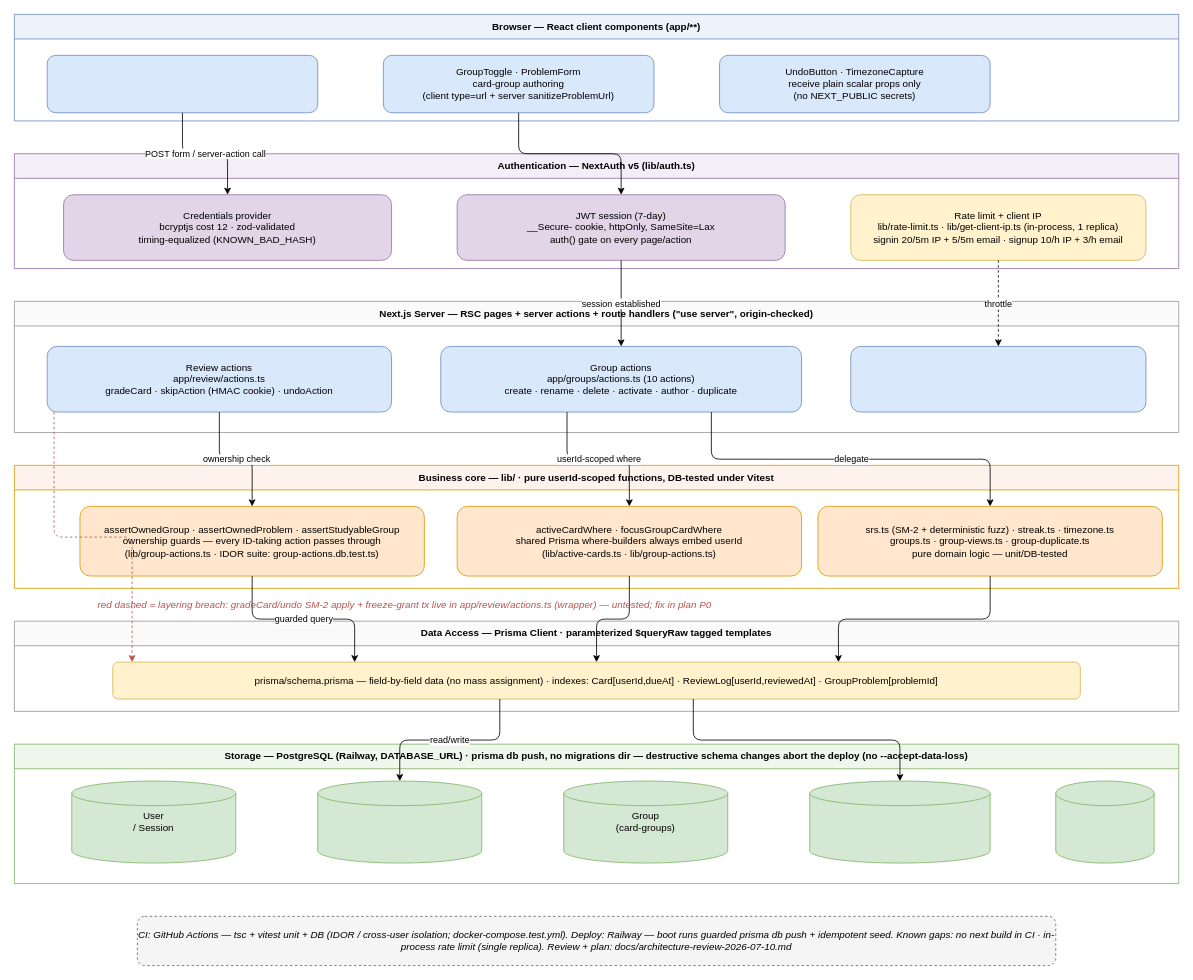
Some shapes in this 1193 by 980 pixel diagram are drawn without their labels. The centre of each missing label's shape, as x and y in pixels:
"Card / ReviewLog" goes at (399,821).
"GroupProblem / GroupActivation (cascade delete)" goes at (899,821).
"Problem (url field)" goes at (1104,821).
"ReviewCard grade / skip / undo (text via JSX nodes — escaped)" goes at (182,84).
"Route handlers /api/user/timezone /api/auth/[...nextauth]" goes at (998,379).
